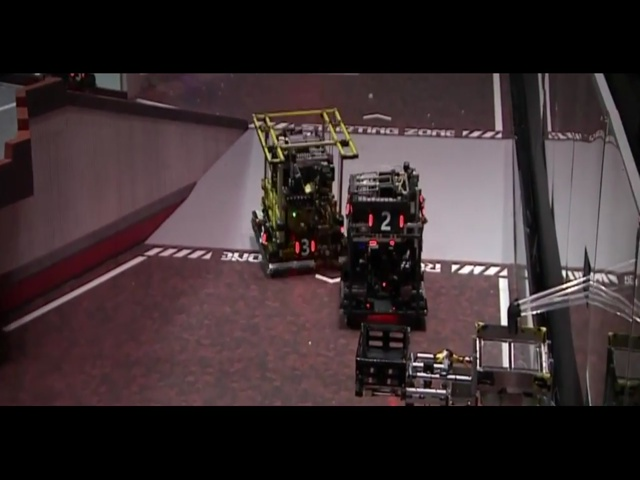bluePlate: (489, 330, 526, 351), (311, 174, 342, 199), (562, 325, 587, 356), (278, 171, 300, 195), (265, 204, 279, 238), (478, 153, 495, 169)
redPlate: (166, 357, 202, 392), (232, 353, 258, 376), (398, 195, 420, 214), (425, 192, 441, 214)
